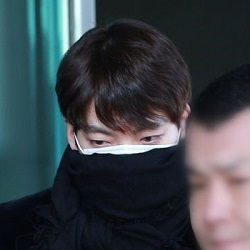mask: (67, 123, 180, 217)
